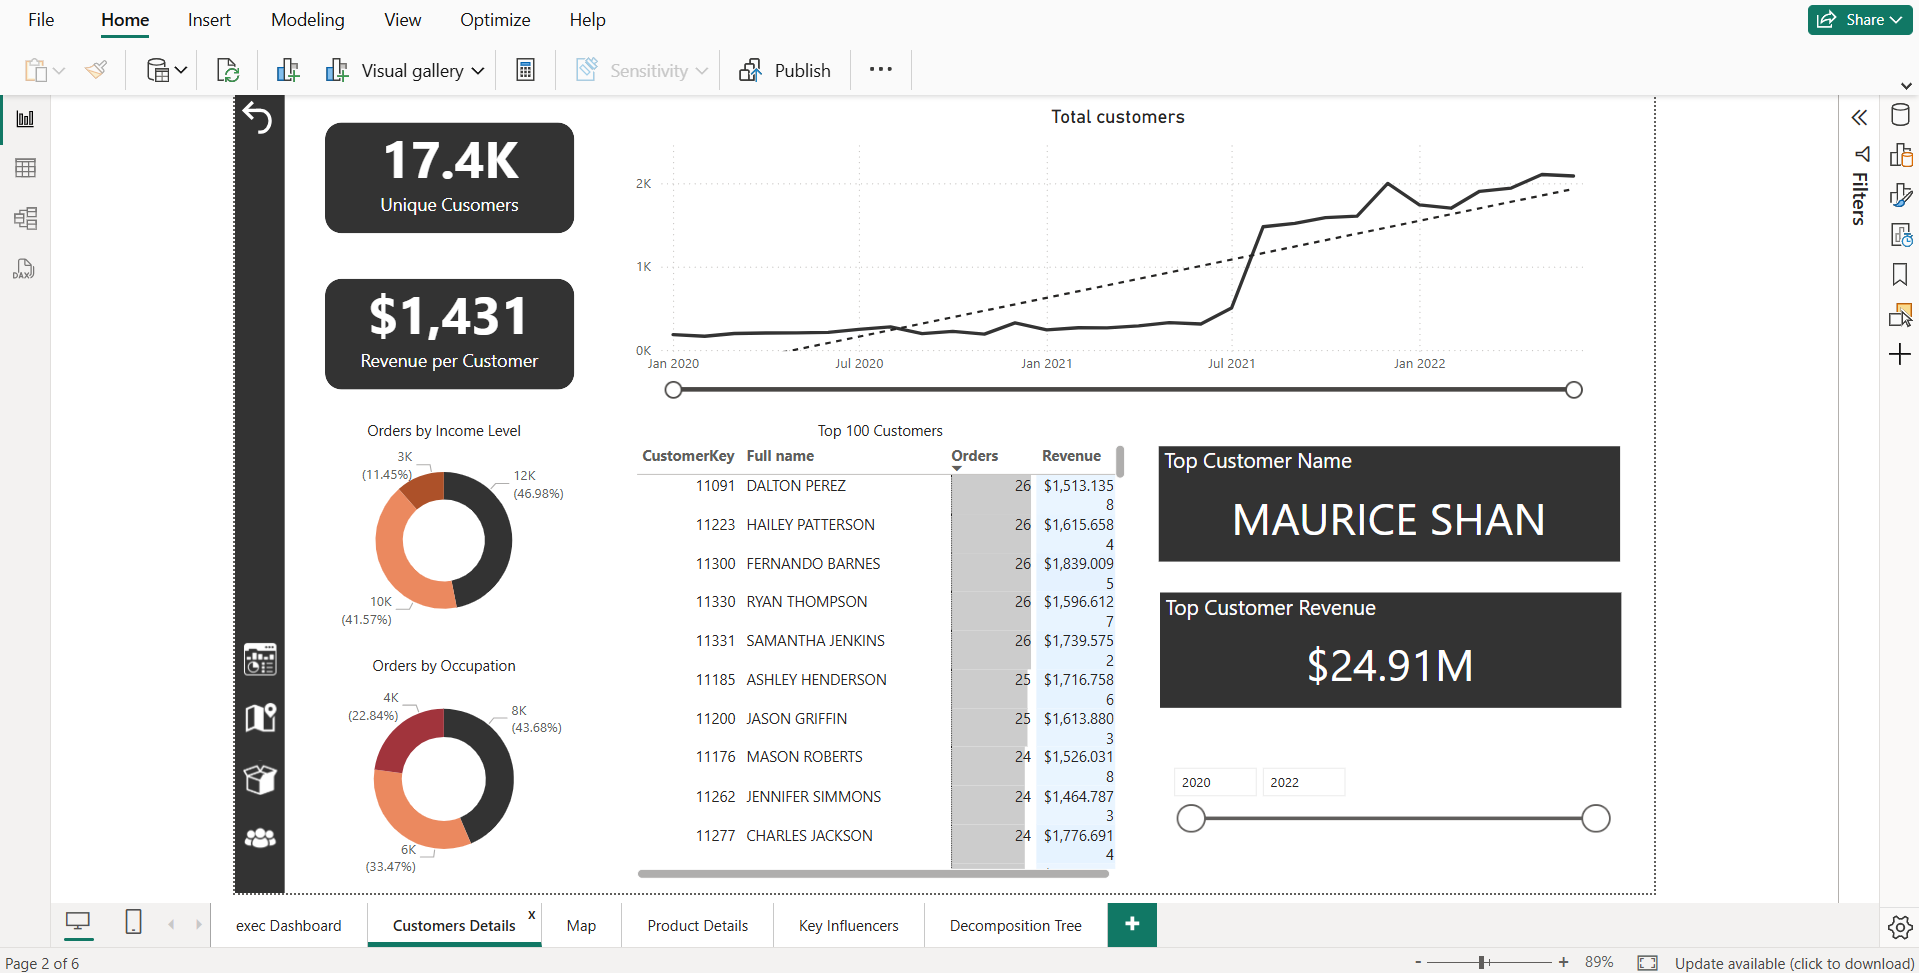

This screenshot's page, from the dashboard's own definition file:
{"tool":"powerbi","page":{"name":"Customers Details","canvas":[1280,720],"ordinal":1},"visuals":[{"type":"shape","title":"left nav","box":[0,0,45,720],"z":0},{"type":"shape","box":[81.2,25,225,100],"z":0,"group":"g2"},{"type":"shape","box":[81.2,166.2,225,100],"z":0,"group":"g1"},{"type":"actionButton","box":[0,489.1,45.2,39.1],"z":0,"group":"g3"},{"type":"card","fields":{"Values":["Table Measures.Total Cusomers"]},"box":[71.2,0,245,133],"z":1000,"group":"g2"},{"type":"group","id":"g1","title":"rev per customer","box":[71.2,141.2,245,132.5],"z":1000},{"type":"card","fields":{"Values":["Table Measures.Avg revenue per customer"]},"box":[71.2,141.2,245,132.5],"z":1000,"group":"g1"},{"type":"actionButton","box":[0,542.9,45.2,39.1],"z":1000,"group":"g3"},{"type":"group","id":"g2","title":"unique customers","box":[71.2,0,245,132.5],"z":2000},{"type":"actionButton","box":[0,650.5,45.2,39.1],"z":2000,"group":"g3"},{"type":"lineChart","title":"Total customers","fields":{"Y":["Table Measures.Total Cusomers"],"Category":["Calendar Lookup.Date Hierarchy.Year","Calendar Lookup.Date Hierarchy.Start of Month","Calendar Lookup.Date Hierarchy.Start of Week"]},"box":[355.7,8.6,880,267.1],"z":3000},{"type":"actionButton","box":[0,596.7,45.2,39.1],"z":3000,"group":"g3"},{"type":"donutChart","title":"Orders by Income Level","fields":{"Category":["Customer Lookup.Income Level"],"Y":["Table Measures.Total Orders"]},"box":[71.2,292.5,235,200],"z":4000},{"type":"donutChart","title":"Orders by Occupation","fields":{"Y":["Table Measures.Total Orders"],"Category":["Customer Lookup.Occupation"]},"box":[71.2,505,235,206.2],"z":5000},{"type":"tableEx","title":"Top 100 Customers","fields":{"Values":["Customer Lookup.CustomerKey","Customer Lookup.Full name","Table Measures.Total Orders","Table Measures.Total revenue"]},"box":[356.2,292.5,451.2,418.8],"z":6000},{"type":"card","title":"Top Customer Name","fields":{"Values":["Min(Customer Lookup.Full name)"]},"box":[832.7,316.7,415.8,103.9],"z":7000},{"type":"slicer","fields":{"Values":["Calendar Lookup.Year"]},"box":[834,596.7,414.5,92.9],"z":8000},{"type":"actionButton","box":[0,0,44.3,40],"z":10000},{"type":"card","title":"Top Customer Revenue","fields":{"Values":["Table Measures.Total revenue"]},"box":[834,448.8,415.8,103.9],"z":11000},{"type":"group","id":"g3","title":"navigation buttons","box":[0,489.1,45.2,200.5],"z":11001}]}

Visuals, with their boxes on the page's 1280x720 design canvas (x1, y1, x2, y2). These are canvas units, not pixel positions in the 1919x973 screenshot, which may show the page scaled, cropped or inside an application window:
"left nav" shape: 0, 0, 45, 720
shape: 81, 25, 306, 125
shape: 81, 166, 306, 266
actionButton: 0, 489, 45, 528
card - Table Measures.Total Cusomers: 71, 0, 316, 133
"rev per customer" group: 71, 141, 316, 274
card - Table Measures.Avg revenue per customer: 71, 141, 316, 274
actionButton: 0, 543, 45, 582
"unique customers" group: 71, 0, 316, 132
actionButton: 0, 650, 45, 690
"Total customers" lineChart: 356, 9, 1236, 276
actionButton: 0, 597, 45, 636
"Orders by Income Level" donutChart: 71, 292, 306, 492
"Orders by Occupation" donutChart: 71, 505, 306, 711
"Top 100 Customers" tableEx: 356, 292, 807, 711
"Top Customer Name" card: 833, 317, 1248, 421
slicer - Calendar Lookup.Year: 834, 597, 1248, 690
actionButton: 0, 0, 44, 40
"Top Customer Revenue" card: 834, 449, 1250, 553
"navigation buttons" group: 0, 489, 45, 690
